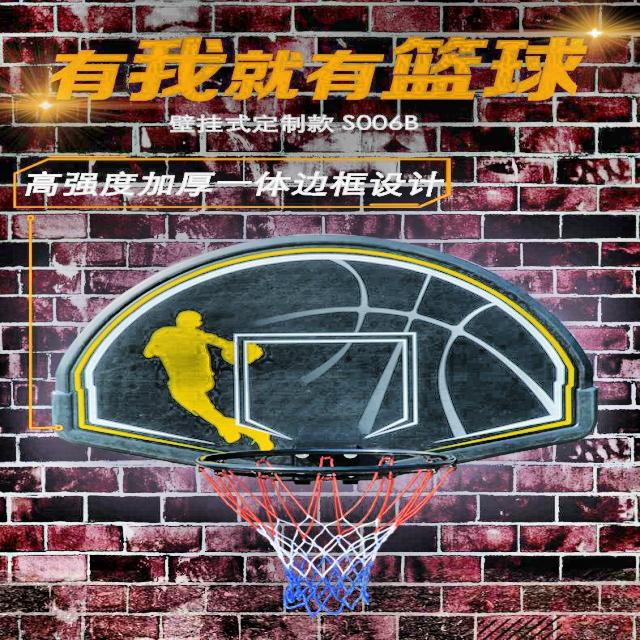rim: (200, 451, 457, 613)
